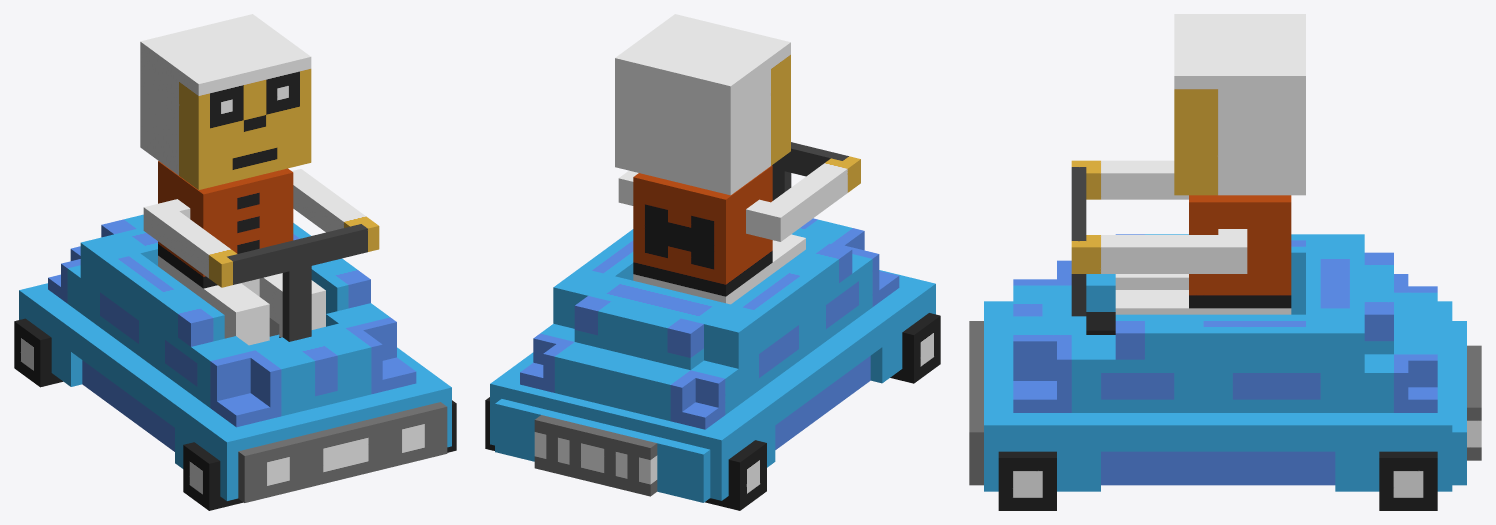
File: Character_7.fbx
3 views of the same model, side by side, from view 1: azimuth 30°, elevation 25°; view 2: azimuth 150°, elevation 25°; view 3: azimuth 270°, elevation 25° (orthographic). The views are drawn at different scales.
Parts seen in each view (by area): view 1: Character_7; view 2: Character_7; view 3: Character_7.
Boxes of the visible parts, x1=… form: Character_7: x1=14, y1=14, x2=456, y2=510; Character_7: x1=485, y1=14, x2=940, y2=510; Character_7: x1=969, y1=14, x2=1481, y2=510.
Bounding box in the file's own units: 22 × 30 × 35.
1 material, 1 textured.
